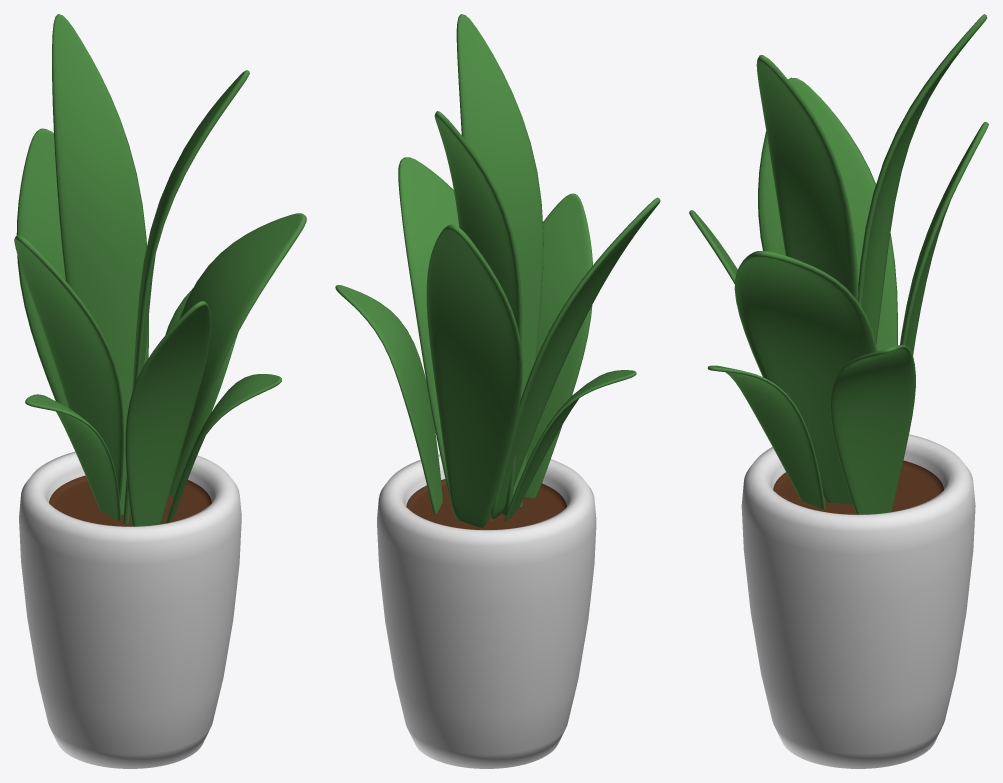
File: Plant Pot.fbx
The picture shows the model from 3 angles, left to right: view 1: azimuth 30°, elevation 25°; view 2: azimuth 150°, elevation 25°; view 3: azimuth 270°, elevation 25°; orthographic projection. The views are drawn at different scales.
Parts seen in each view (by area): view 1: Pot; view 2: Pot; view 3: Pot.
Boxes of the visible parts, bbox=[...] form: Pot: bbox=[14, 14, 306, 768]; Pot: bbox=[335, 14, 660, 768]; Pot: bbox=[689, 14, 988, 768].
Bounding box in the file's own units: 88.28 × 204 × 77.4.
